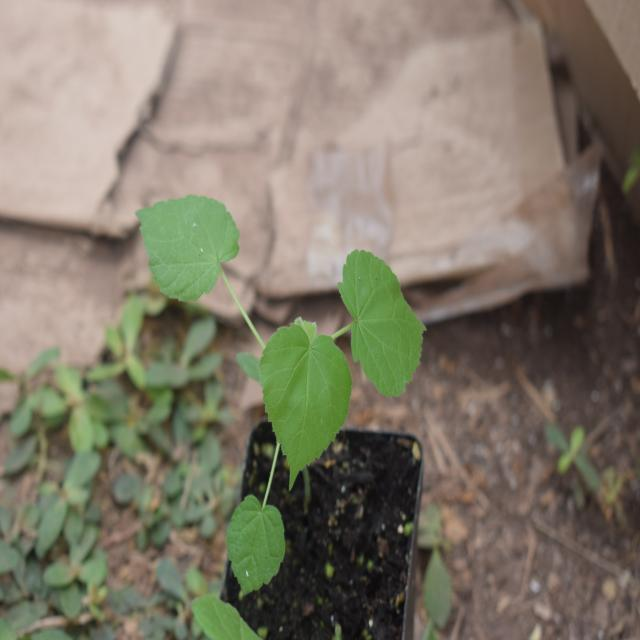abutilon theophrasti: (106, 166, 421, 494)
